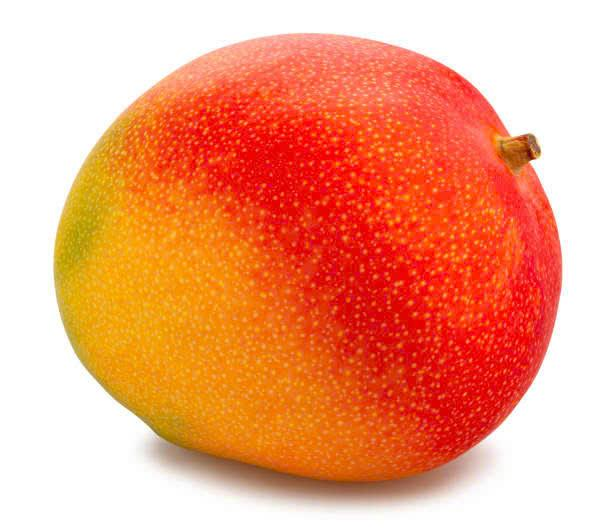mango: (74, 28, 573, 478)
